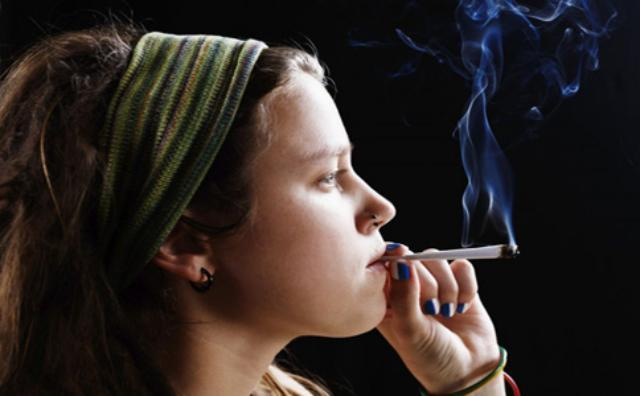SafeDriving: (300, 152, 352, 197)
Smoking: (382, 244, 522, 264)
